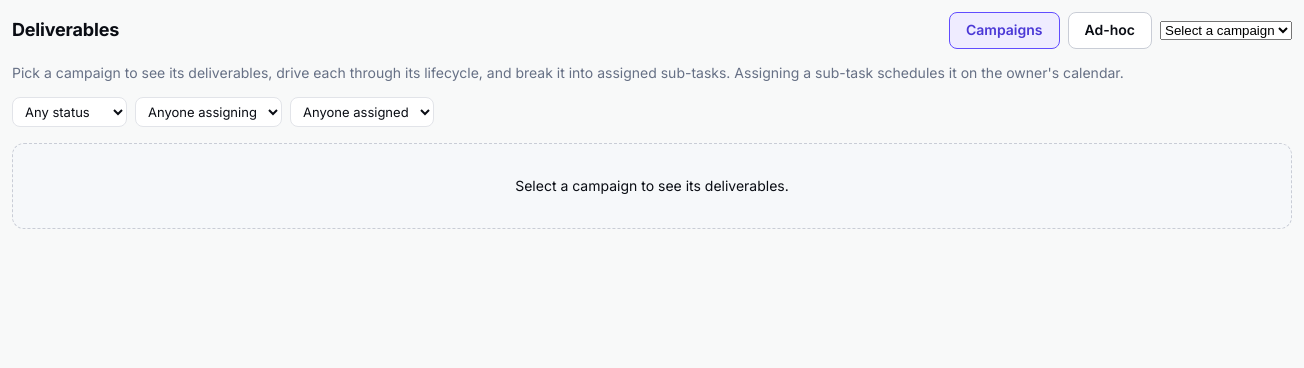
Test case: DeliverablesPage (ADR-0024, I2 breakdown surface) › separates who HANDED OUT the work from who is doing it
Select "Spring Launch" in the dropdown with test id "deliverables-campaign": (1226, 30) [1160,21,1292,40]
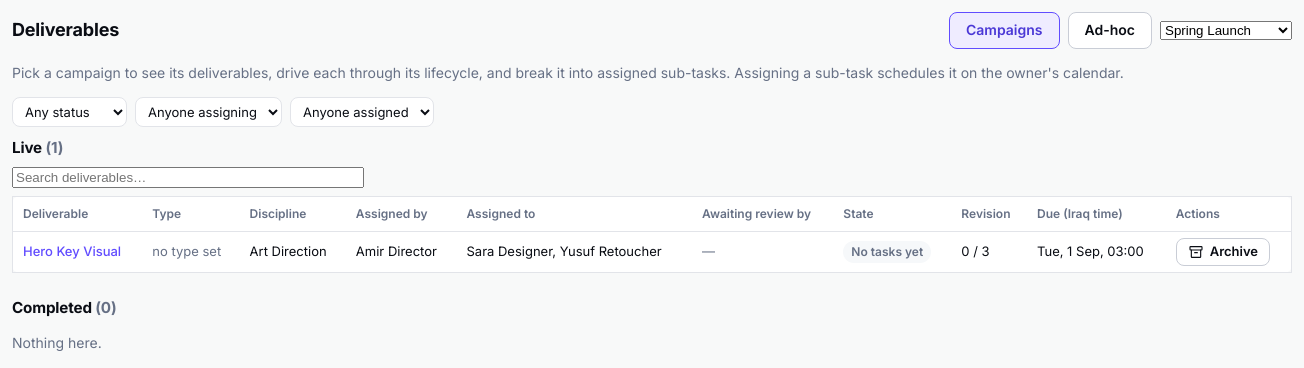
Now the cell with test id "deliverable-assigners-d1" reads "Amir Director", box [356,243,437,259]
Now the cell with test id "deliverable-assignees-d1" reads "Sara Designer, Yusuf Retoucher", box [466,243,662,259]
